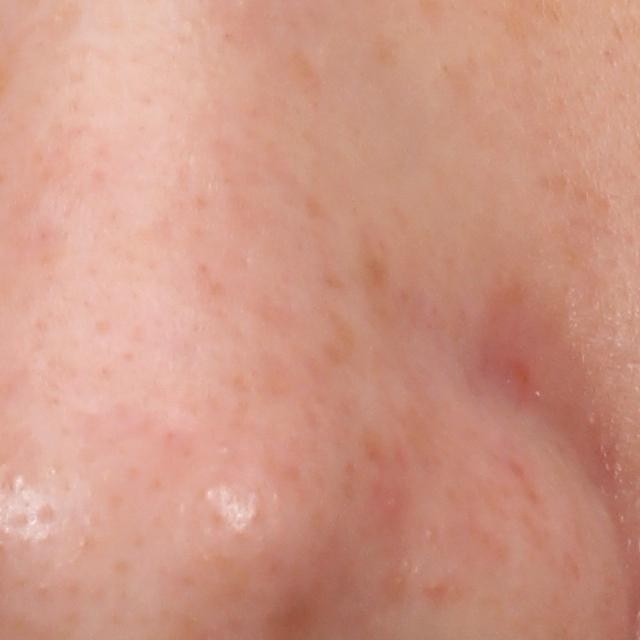comedo: (7, 470, 27, 494)
melasma: (355, 248, 397, 326), (323, 307, 365, 364), (290, 55, 320, 110)
